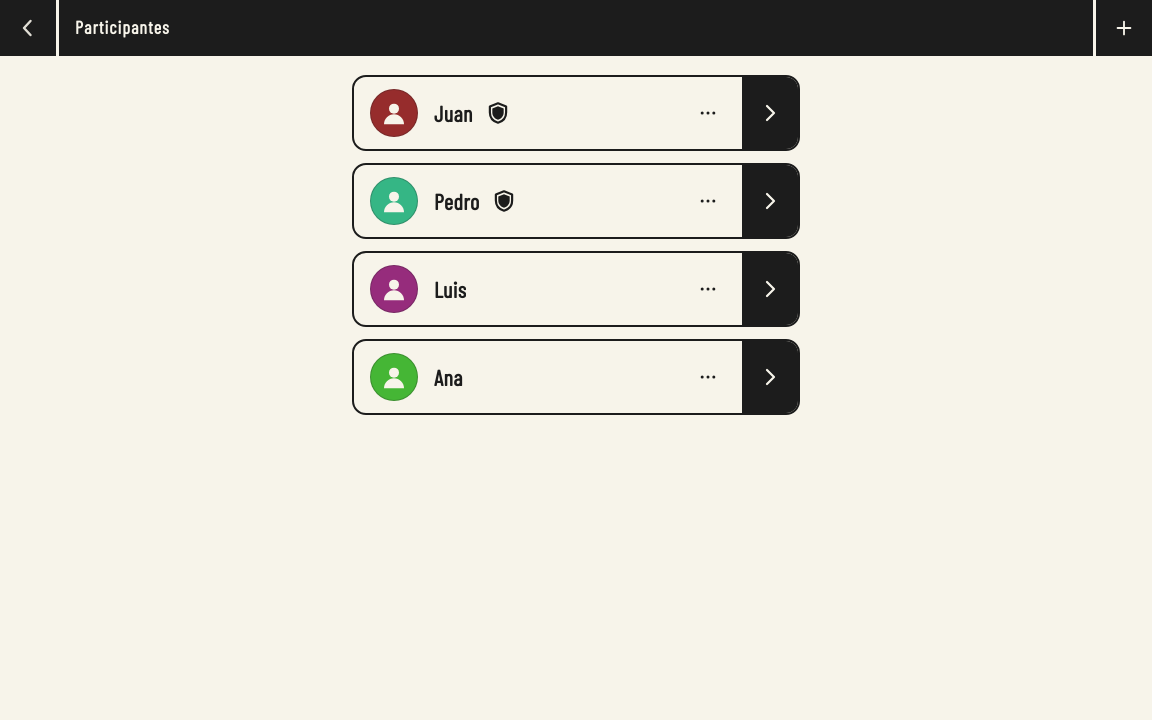
ParticipantsScreen (administración) › el administrador agrega un integrante con el + de la barra
The width and height of the screenshot is (1152, 720).
Click the button named "Agregar integrante" at coordinates (1124, 28), box [1096,0,1151,56]
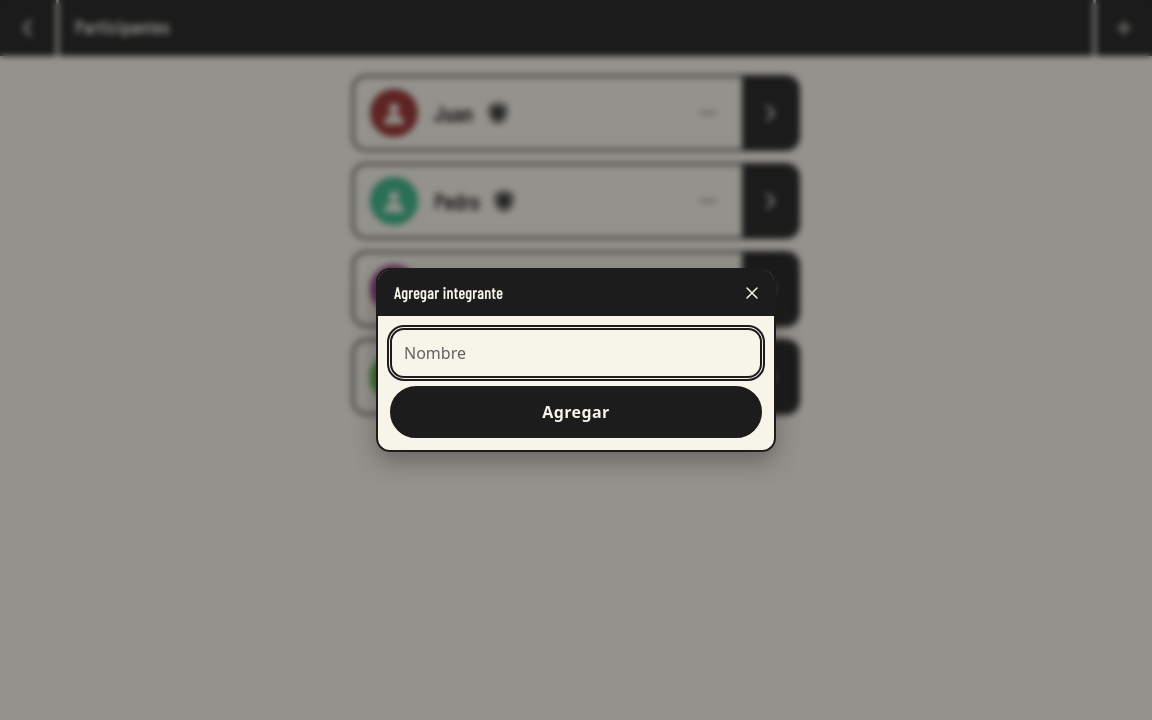
Type "Marta" into the field labelled "Nombre" at coordinates (576, 353), box [390,328,762,378]
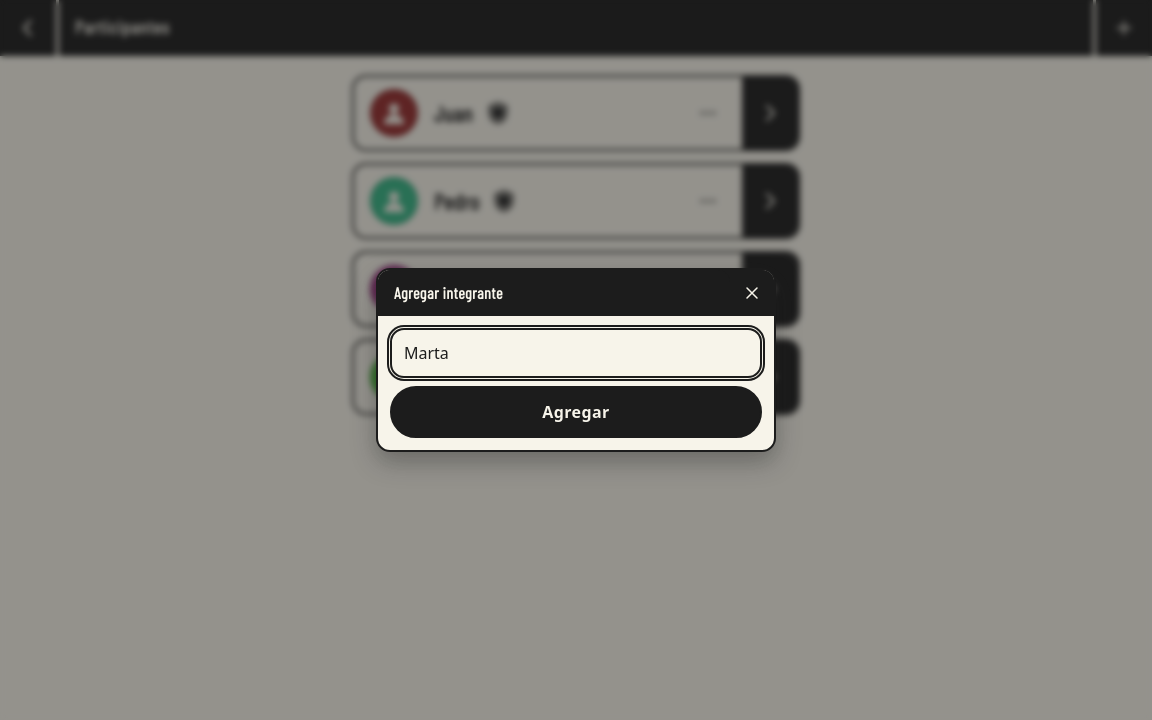
Click the button "Agregar" at coordinates (576, 412), box [390,386,762,438]
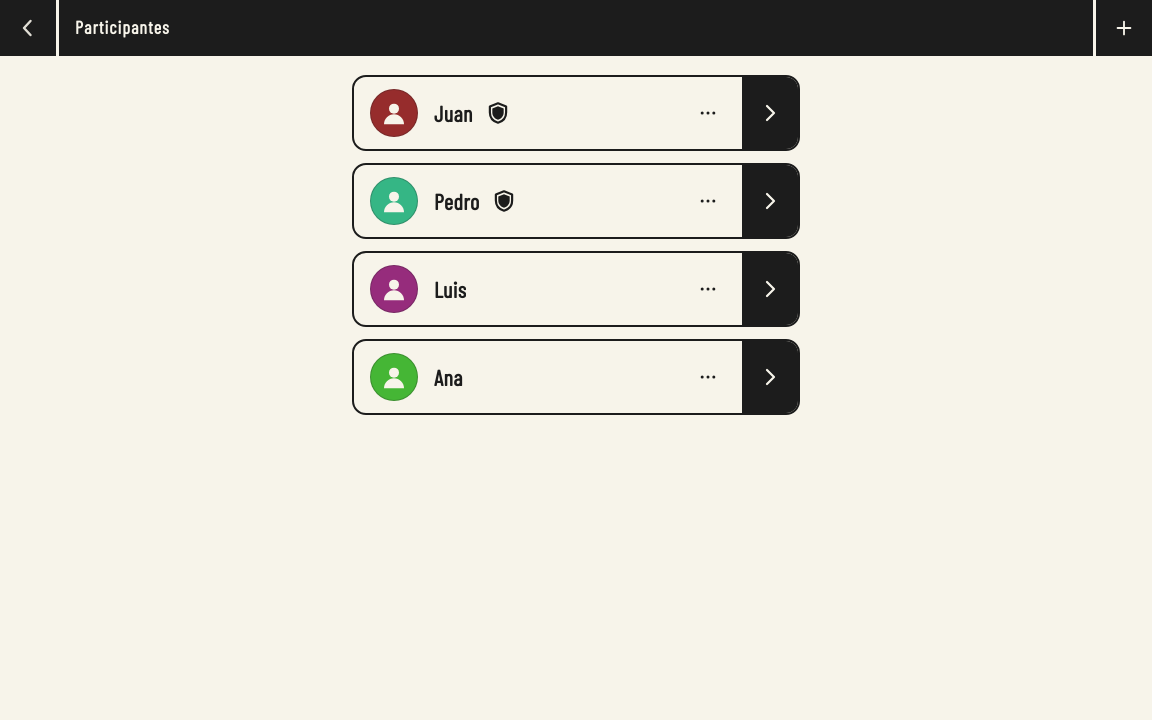
Check: the dialog is gone
